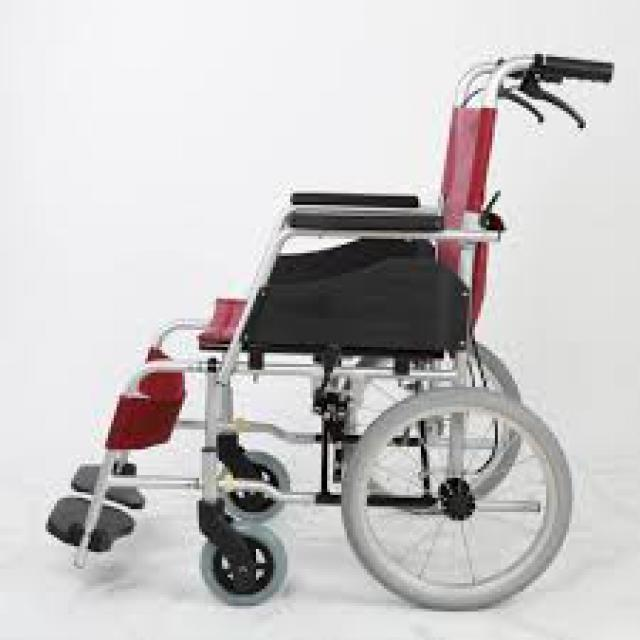wheelchair: (29, 42, 628, 638)
